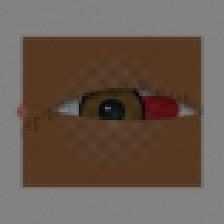hemorrhage_spot: (112, 78, 191, 141)
